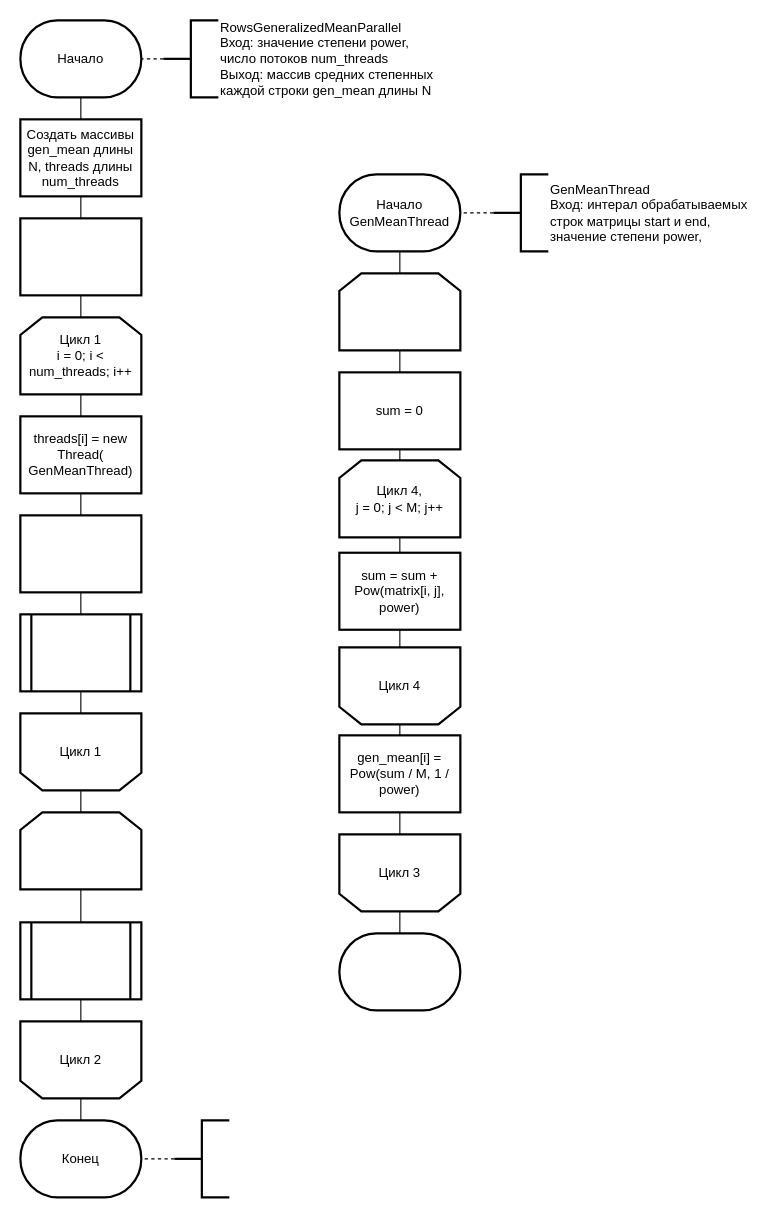
The diagram is 766 pixels wide and 1217 high, and some of its shapes have lost their labels. The shapes that lost their labels are listed below. From the top down, each one's box as (x1, y1, x2, y2) in pixels, then its label:
(19, 217, 142, 296): parts = N / num_threads + n % num_threads != 0
(338, 272, 461, 351): Цикл 3 i = start; i < end; i++
(19, 514, 142, 593): args = new Args(i * parts, (i + 1) * parts > n ? n : (i + 1) * parts, power)
(19, 613, 142, 692): threads[i].Start( args)
(19, 811, 142, 890): Цикл 2 i = 0; i < num_threads; i++
(19, 921, 142, 1000): threads[i].Join()
(338, 932, 461, 1011): Конец GenMeanThread
(173, 1119, 230, 1198): Возврат gen_mean
